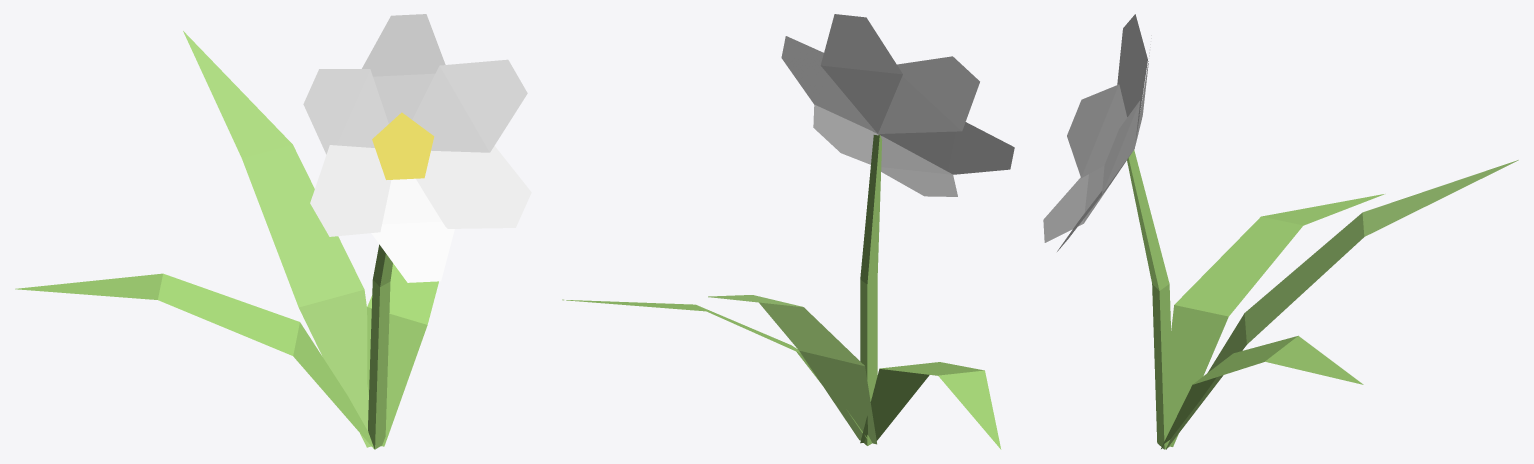
The model's file is Flower_e_TwoS_08.fbx.
3 views of the same model, side by side, from view 1: azimuth 30°, elevation 25°; view 2: azimuth 150°, elevation 25°; view 3: azimuth 270°, elevation 25° (orthographic). The views are drawn at different scales.
Parts seen in each view (by area): view 1: Flower_e_TwoS_08; view 2: Flower_e_TwoS_08; view 3: Flower_e_TwoS_08.
Part boxes in pixels (<box>): Flower_e_TwoS_08: <box>15,14,531,449</box>; Flower_e_TwoS_08: <box>562,14,1014,449</box>; Flower_e_TwoS_08: <box>1043,14,1518,449</box>.
Bounding box in the file's own units: 41.39 × 36.7 × 37.29.
